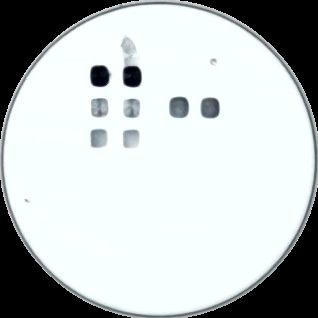检查点: (197, 96, 222, 119), (168, 96, 190, 120), (121, 66, 144, 88), (89, 63, 110, 87), (89, 97, 110, 119), (122, 128, 142, 150), (89, 128, 109, 149), (123, 97, 142, 119)
